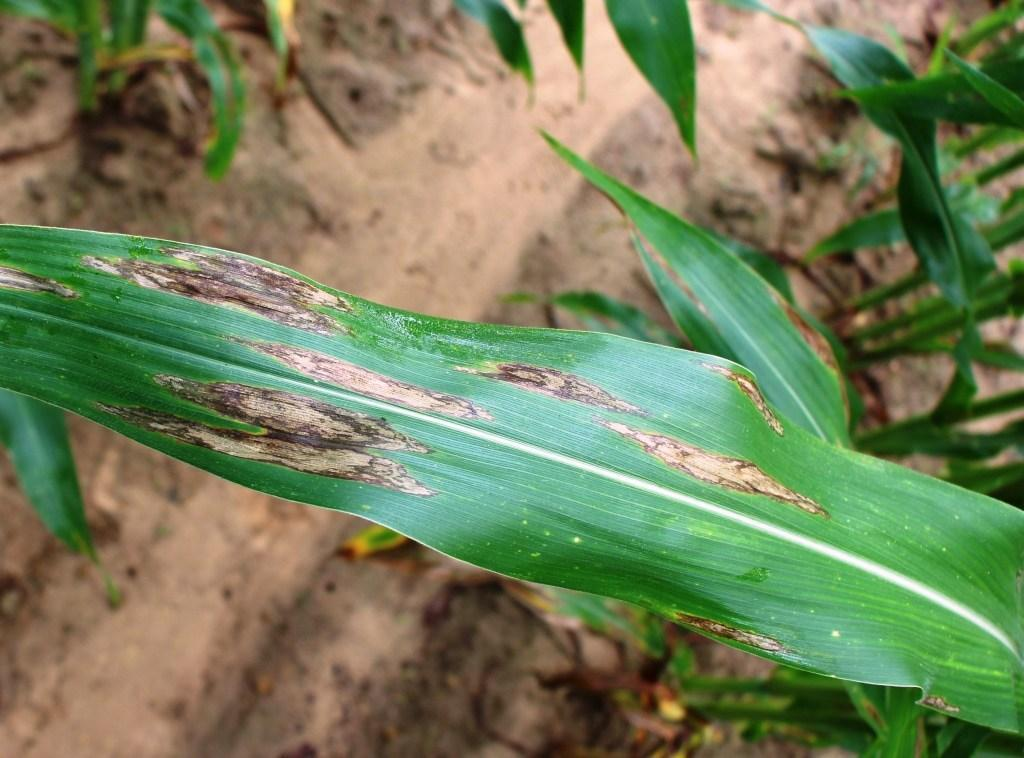Corn_Blight: (429, 325, 843, 539), (142, 305, 421, 521), (80, 200, 344, 301), (636, 589, 829, 665), (2, 243, 84, 331)
